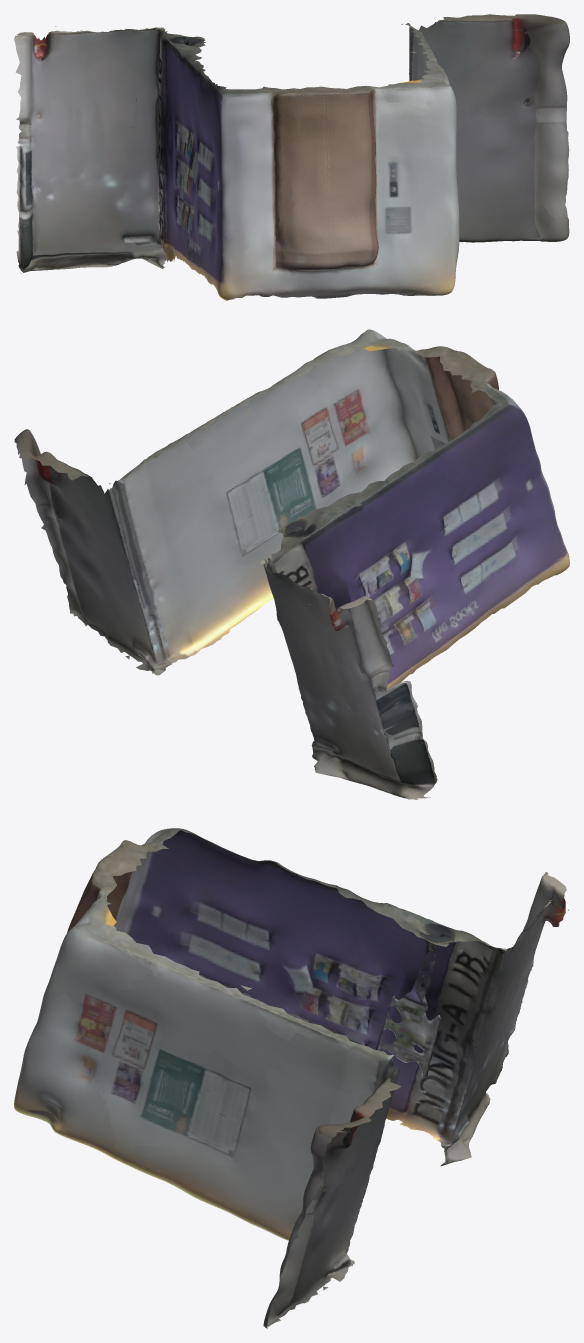
The picture shows the model from 3 angles, top to bottom: view 1: azimuth 30°, elevation 25°; view 2: azimuth 150°, elevation 25°; view 3: azimuth 270°, elevation 25°; orthographic projection. The views are drawn at different scales.
Visible parts, largest first — view 1: Untitled; view 2: Untitled; view 3: Untitled.
Part boxes in pixels (x1,y1,x2,y2): Untitled: (14, 14, 569, 300); Untitled: (14, 329, 569, 799); Untitled: (14, 828, 569, 1328).
Size of the model in its own units: 147 by 83.72 by 135.
Materials: 1 (1 with a texture image).
